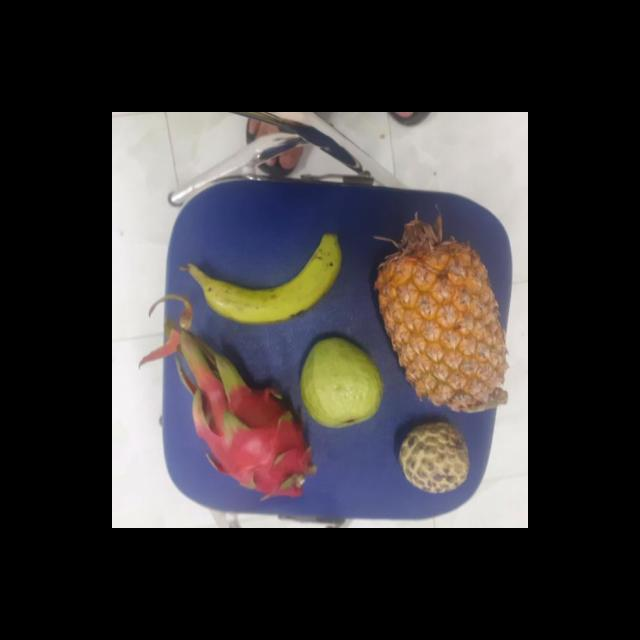Sakya fruit: (396, 422, 469, 492)
banana: (186, 238, 338, 324)
guava: (294, 337, 384, 428)
pineapple: (376, 239, 504, 413)
pitaya: (196, 379, 310, 498)
